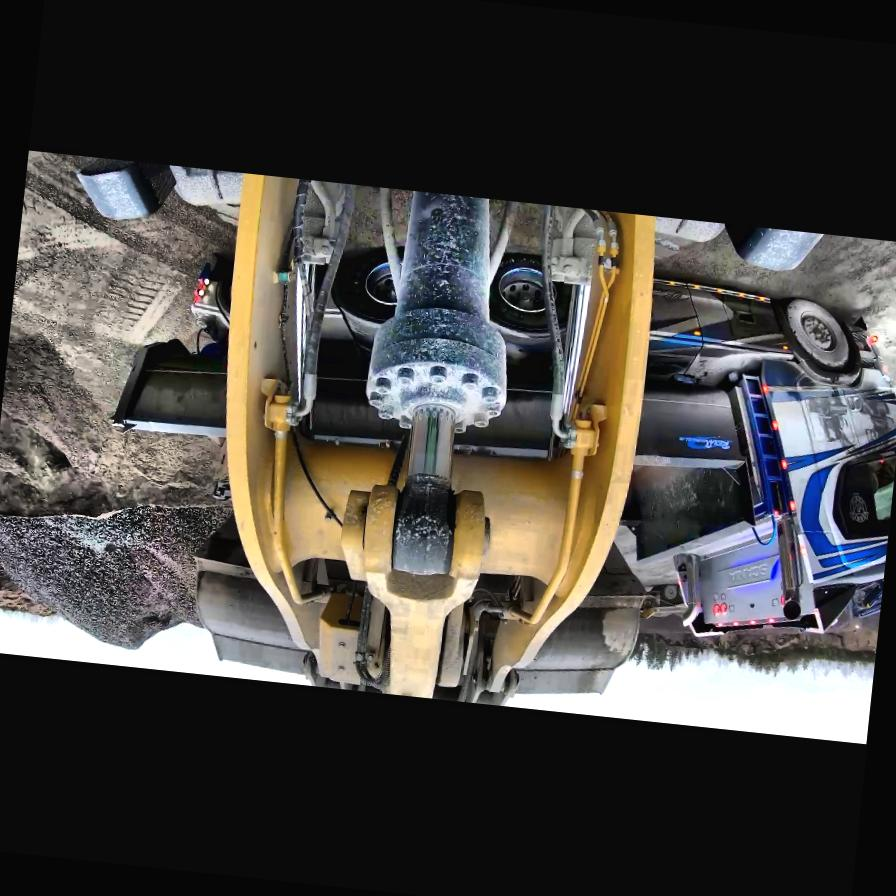anchor: (331, 429, 507, 596)
pile of gravel: (0, 347, 234, 543), (0, 486, 226, 659)
